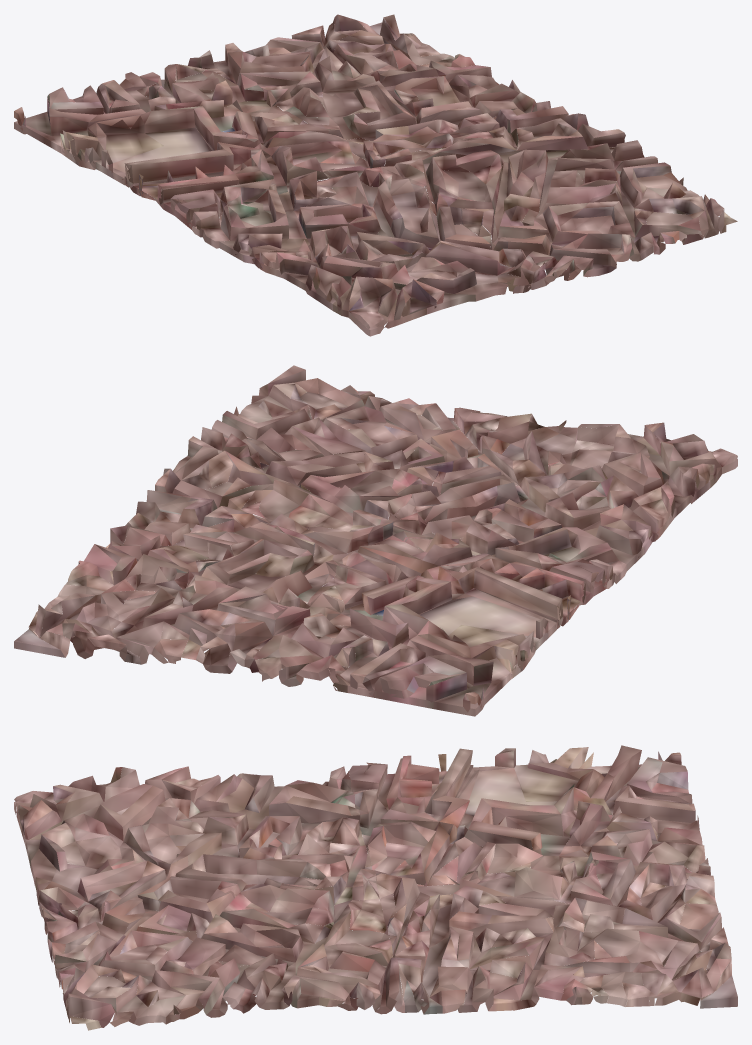
3 views of the same model, one above another, from view 1: azimuth 30°, elevation 25°; view 2: azimuth 150°, elevation 25°; view 3: azimuth 270°, elevation 25° (orthographic). The views are drawn at different scales.
Visible parts, largest first — view 1: Mesh_0; view 2: Mesh_0; view 3: Mesh_0.
Part boxes in pixels (x1=…): Mesh_0: x1=14, y1=14, x2=737, y2=336; Mesh_0: x1=14, y1=365, x2=737, y2=716; Mesh_0: x1=14, y1=745, x2=737, y2=1030.
Size of the model in its own units: 532 by 54.46 by 659.
2 materials, 2 textured.
